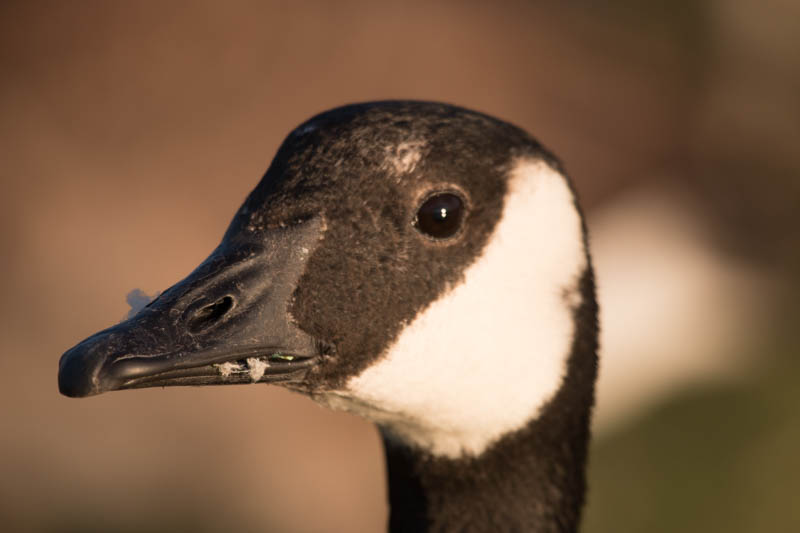goose-head: (57, 100, 601, 473)
